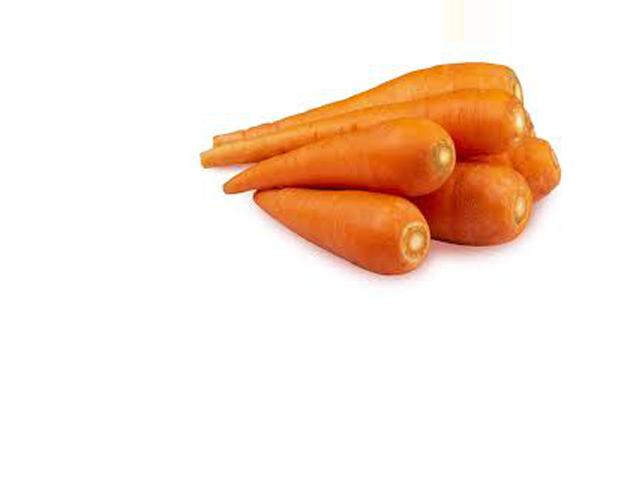carrot: (238, 185, 429, 280)
